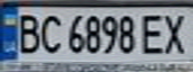6: (63, 11, 84, 54)
8: (115, 11, 142, 55), (81, 11, 103, 55)
9: (100, 12, 121, 55)
B: (12, 10, 42, 54)
C: (36, 11, 63, 54)
E: (136, 10, 172, 56)
X: (157, 9, 193, 56)
